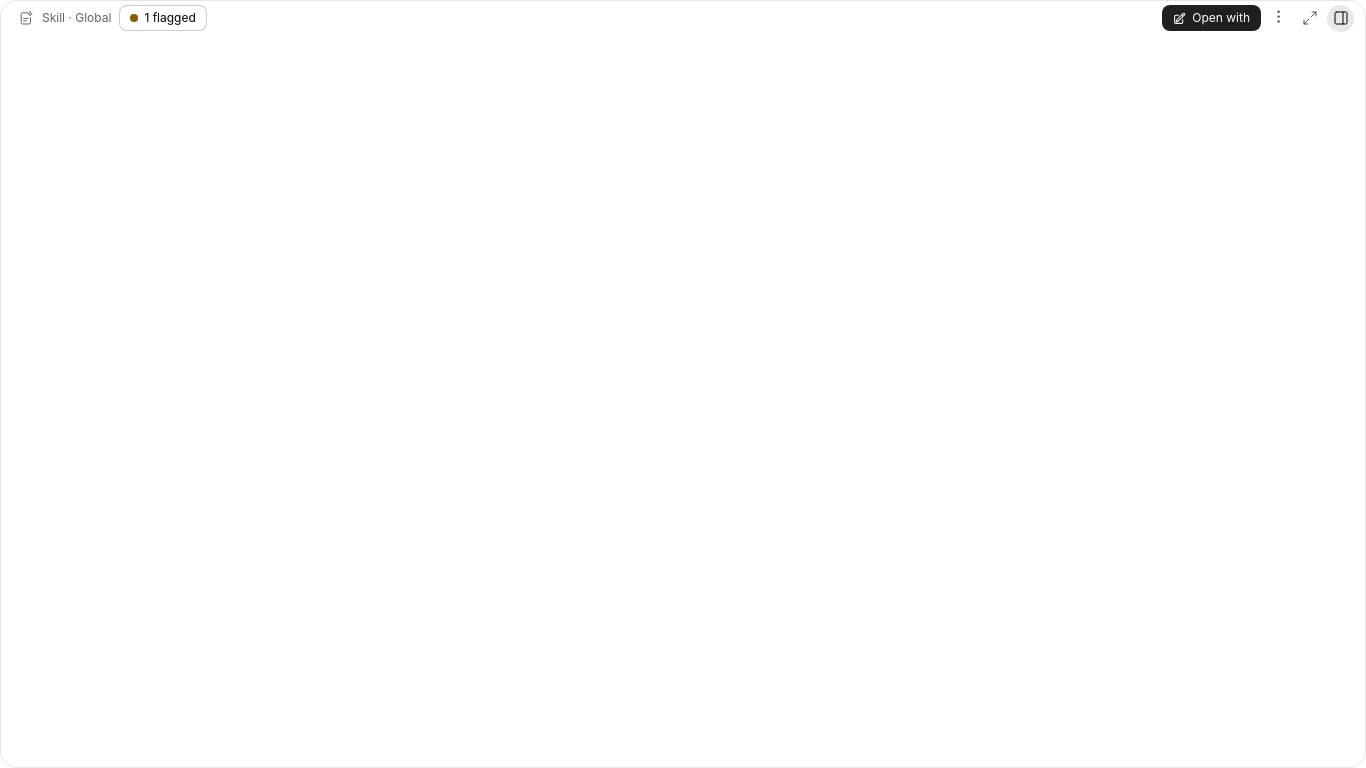
InspectorCap › wires the finding chip to the asset's issues: count, and popover lines from problem
The width and height of the screenshot is (1366, 768).
Click the button "1 flagged" at (163, 18), box [119,5,207,31]
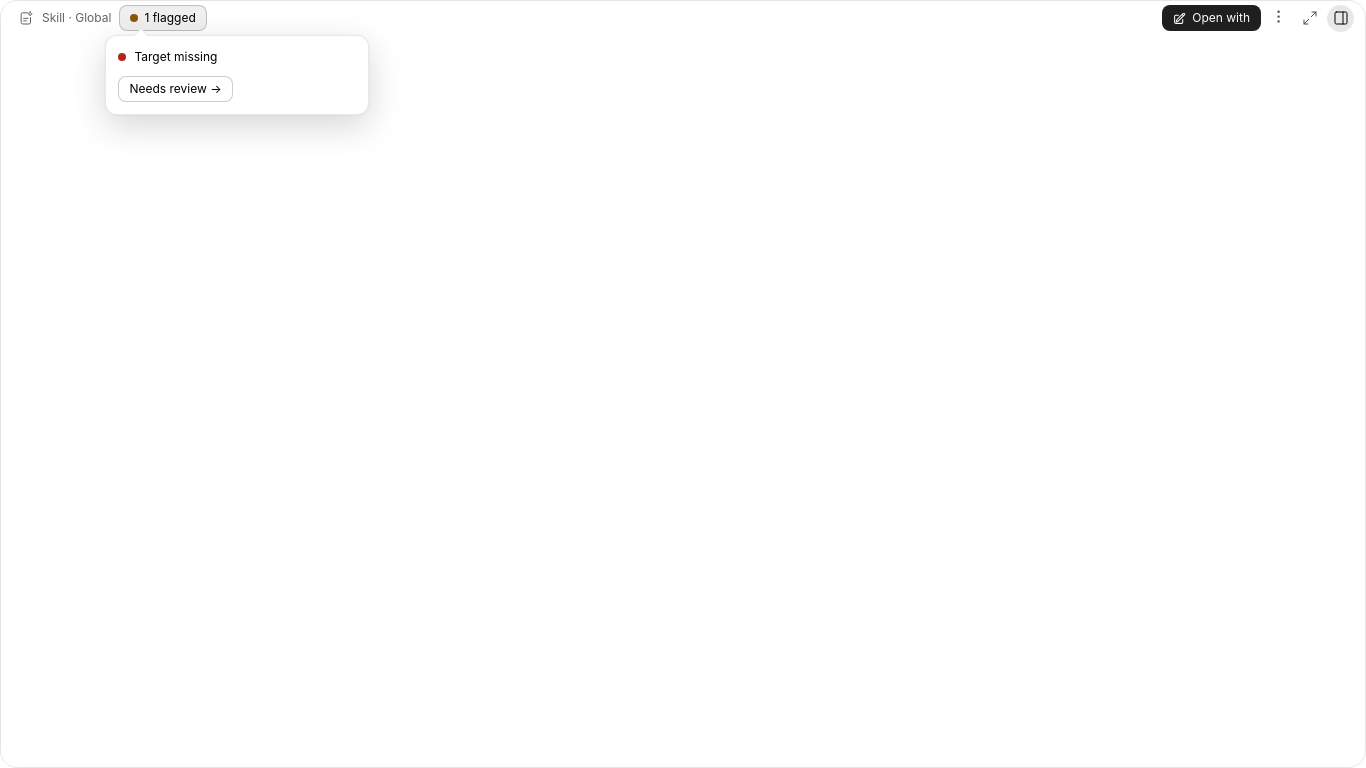
Result: the list item "Target missing" is shown at [118,49,217,64]
